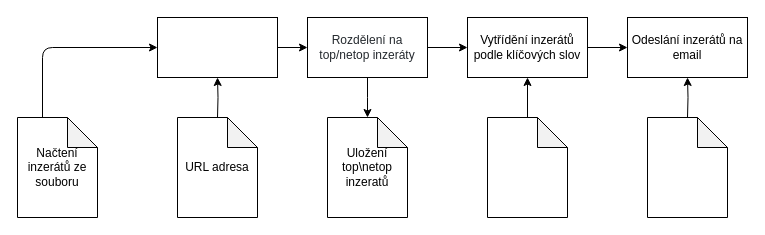
Image size: 765x235. Some labels were removed from this diagram. The centre of each missing label's shape, as x and y in pixels:
Klíčová slova: pixel 527 167
Konfigurace emailů: pixel 687 167
Stažení inzerátů z SBazaru: pixel 217 47
